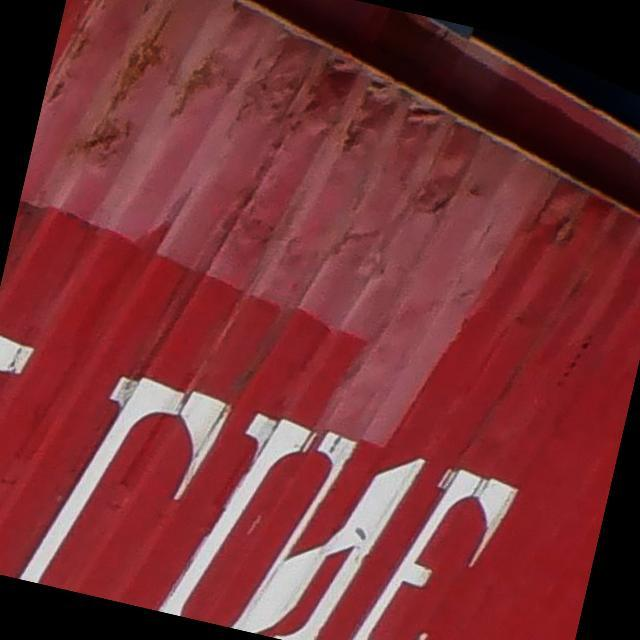dent: (202, 37, 502, 234)
